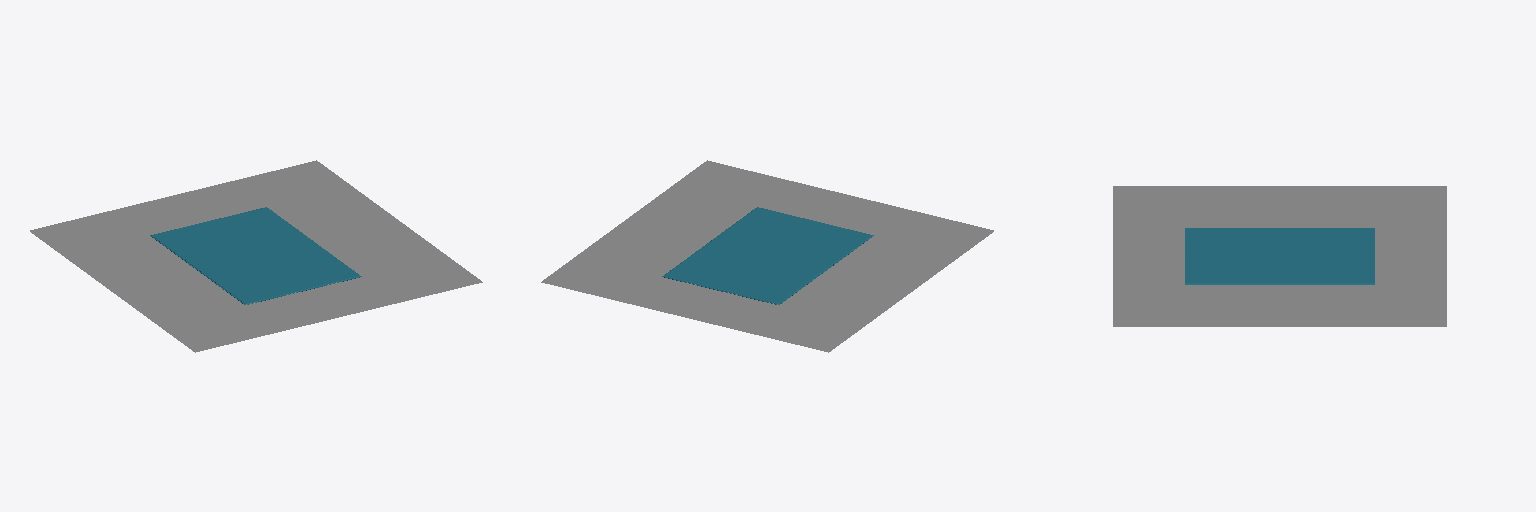
The model's file is WNST3848.obj.
3 views of the same model, side by side, from view 1: azimuth 30°, elevation 25°; view 2: azimuth 150°, elevation 25°; view 3: azimuth 270°, elevation 25° (orthographic).
Parts seen in each view (by area): view 1: shadow_plane_v6, not_clear_obj_0_v6; view 2: shadow_plane_v6, not_clear_obj_0_v6; view 3: shadow_plane_v6, not_clear_obj_0_v6.
Part boxes in pixels (x1,y1,x2,y2): shadow_plane_v6: (30,160,482,352); not_clear_obj_0_v6: (150,207,361,304); shadow_plane_v6: (541,160,993,352); not_clear_obj_0_v6: (662,207,873,304); shadow_plane_v6: (1113,186,1446,326); not_clear_obj_0_v6: (1185,228,1374,284).
Bounding box in the file's own units: 396 × 1.39 × 396.